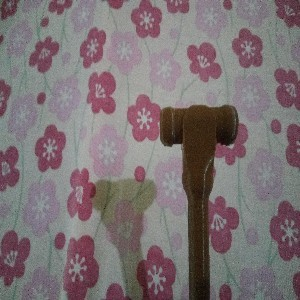palu: (159, 103, 239, 300)
